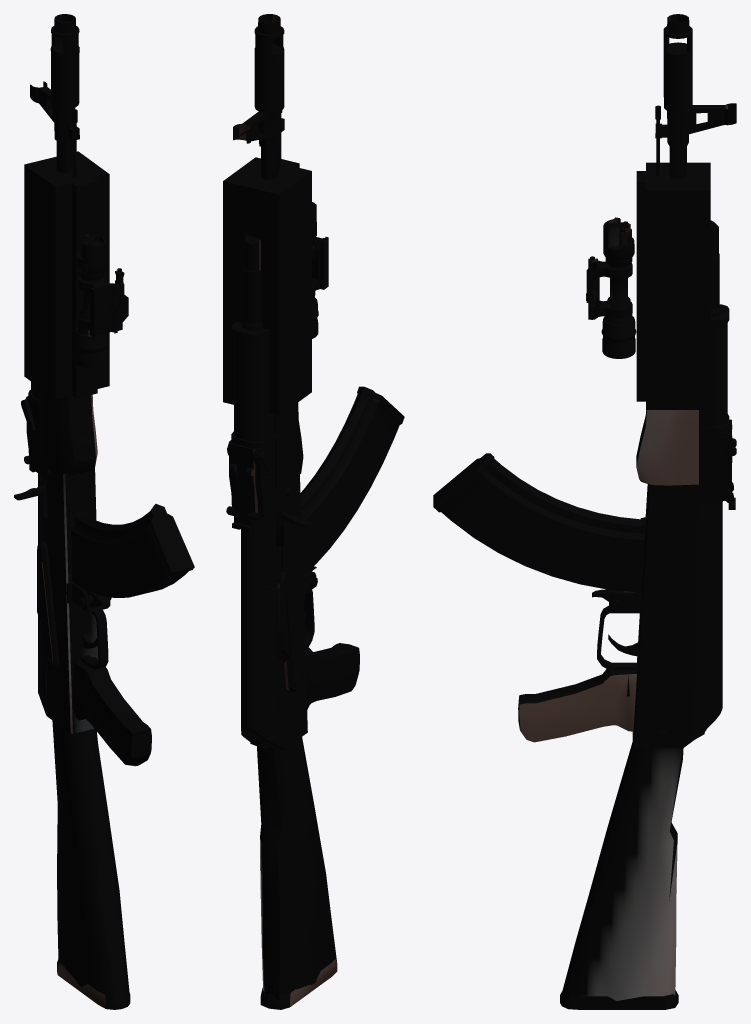
File: AK74__Handguard_AK_Quad__Light_Weapon.fbx
3 renders of one model, left to right at view 1: azimuth 30°, elevation 25°; view 2: azimuth 150°, elevation 25°; view 3: azimuth 270°, elevation 25°, orthographic. The views are drawn at different scales.
Parts seen in each view (by area): view 1: asset_AK74.001; view 2: asset_AK74.001; view 3: asset_AK74.001.
Part boxes in pixels (left/top/right/bottom): asset_AK74.001: left=14, top=14, right=194, bottom=1009; asset_AK74.001: left=223, top=14, right=404, bottom=1009; asset_AK74.001: left=433, top=14, right=736, bottom=1009.
Bounding box in the file's own units: 0.046 × 0.564 × 0.1574.
